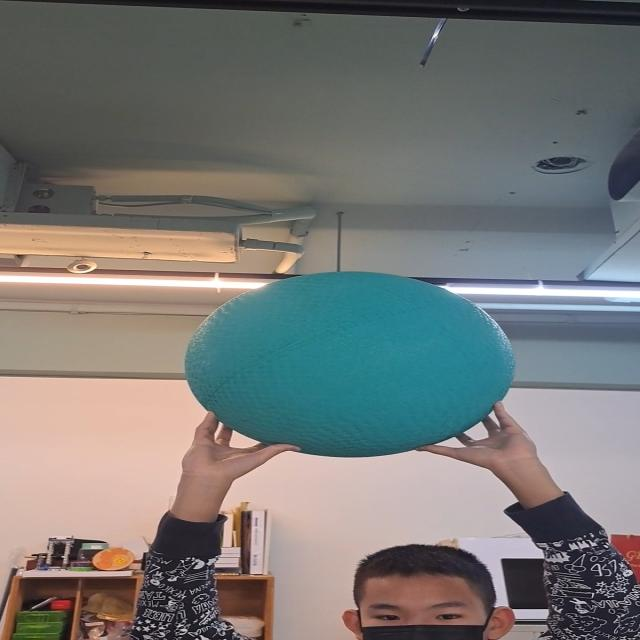ALGAE: (180, 270, 516, 456)
